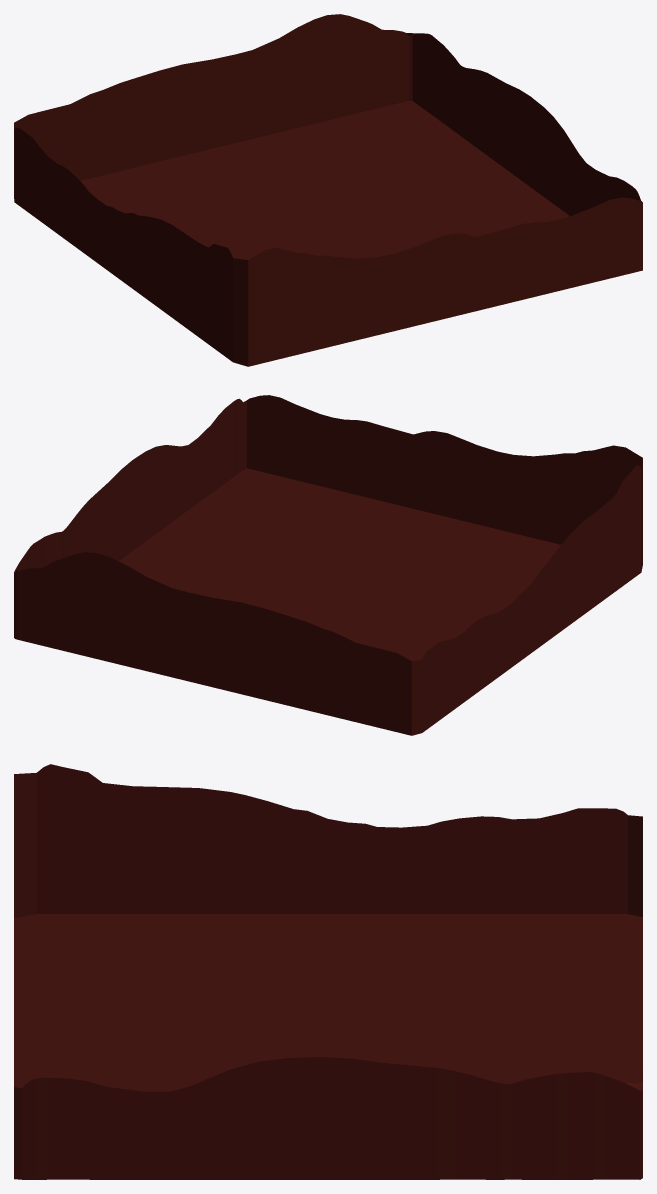
Rendered from obj_Terrain2.fbx.
3 views of the same model, one above another, from view 1: azimuth 30°, elevation 25°; view 2: azimuth 150°, elevation 25°; view 3: azimuth 270°, elevation 25° (orthographic). The views are drawn at different scales.
Visible parts, largest first — view 1: geo_TerrainBase; view 2: geo_TerrainBase; view 3: geo_TerrainBase.
Boxes of the visible parts, bbox=[...] form: geo_TerrainBase: bbox=[14, 14, 642, 366]; geo_TerrainBase: bbox=[14, 395, 642, 735]; geo_TerrainBase: bbox=[14, 764, 642, 1179].
Bounding box in the file's own units: 101295 × 27136 × 101270.
